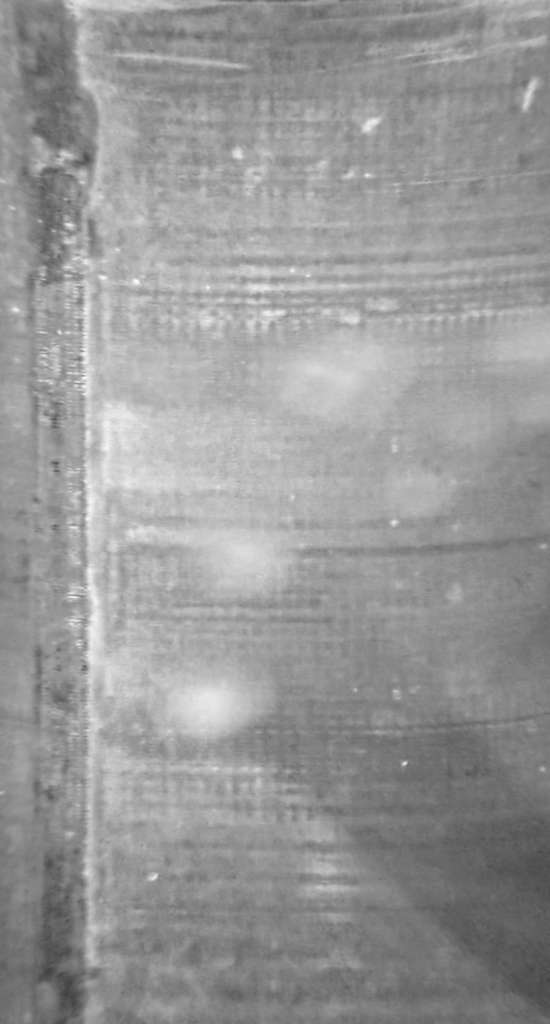splice: (11, 1, 97, 1024)
